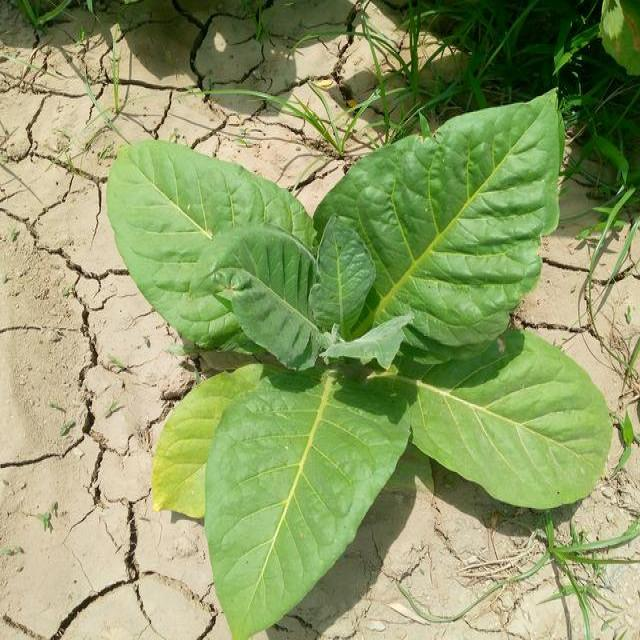crop: (110, 112, 604, 640)
